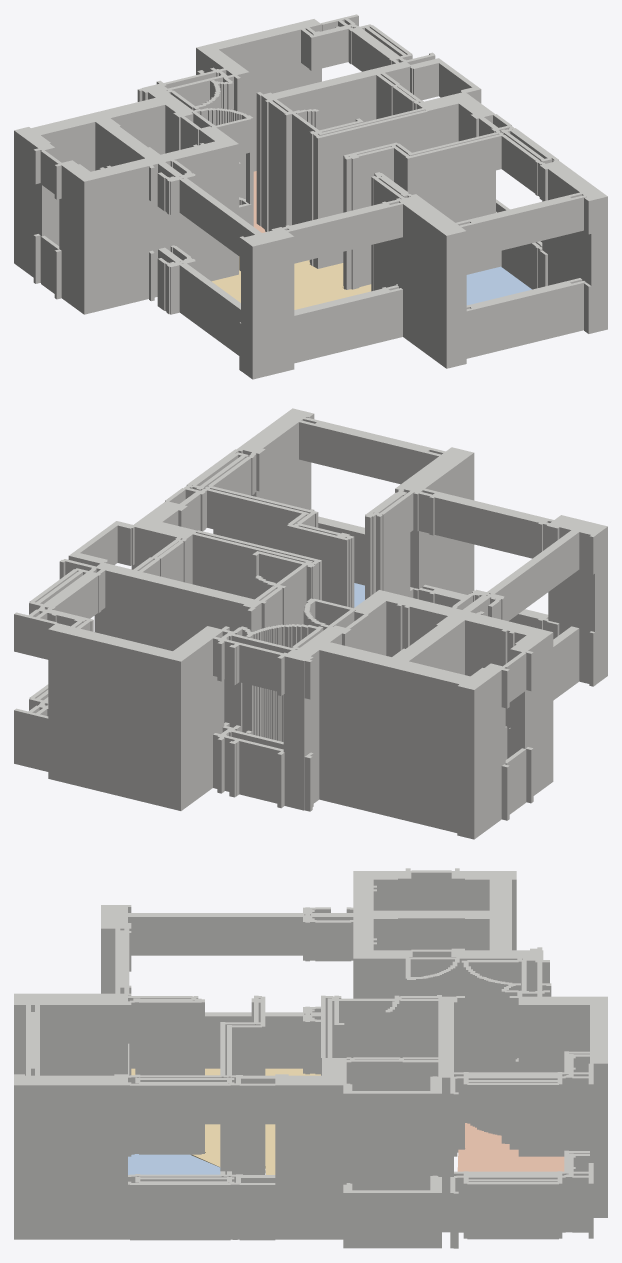
The picture shows the model from 3 angles, top to bottom: view 1: azimuth 30°, elevation 25°; view 2: azimuth 150°, elevation 25°; view 3: azimuth 270°, elevation 25°; orthographic projection. The views are drawn at different scales.
Parts seen in each view (by area): view 1: walls, room:living:1, room:bedroom:6; view 2: walls; view 3: walls, room:kitchen:2, room:living:1, room:bedroom:6.
Part boxes in pixels (x1=…): walls: x1=14, y1=14, x2=607, y2=379; room:living:1: x1=211, y1=256, x2=371, y2=309; room:bedroom:6: x1=466, y1=266, x2=531, y2=305; walls: x1=14, y1=408, x2=607, y2=839; walls: x1=14, y1=868, x2=607, y2=1248; room:kitchen:2: x1=457, y1=1123, x2=564, y2=1171; room:living:1: x1=131, y1=1068, x2=320, y2=1174; room:bedroom:6: x1=128, y1=1154, x2=220, y2=1174.
Size of the model in its own units: 8.79 by 2.8 by 9.75.
